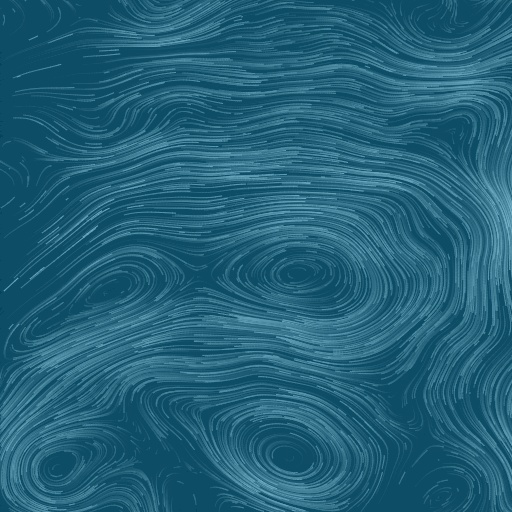eddy: (11, 244, 174, 352), (214, 401, 371, 507), (247, 234, 361, 309), (24, 430, 108, 502)
